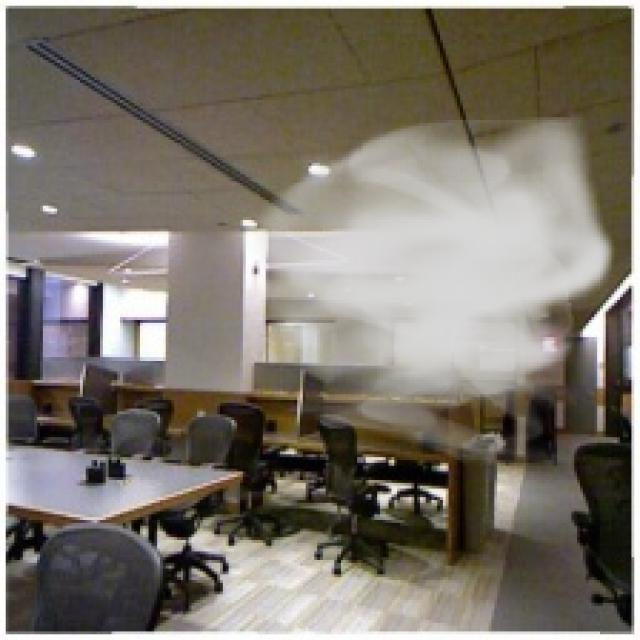smoke: (243, 106, 617, 471)
